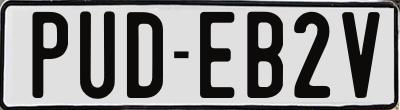2: (291, 12, 328, 100)
B: (246, 10, 286, 102)
D: (125, 11, 161, 103)
E: (198, 9, 236, 98)
P: (30, 11, 72, 100)
U: (77, 8, 113, 102)
V: (341, 10, 383, 102)
